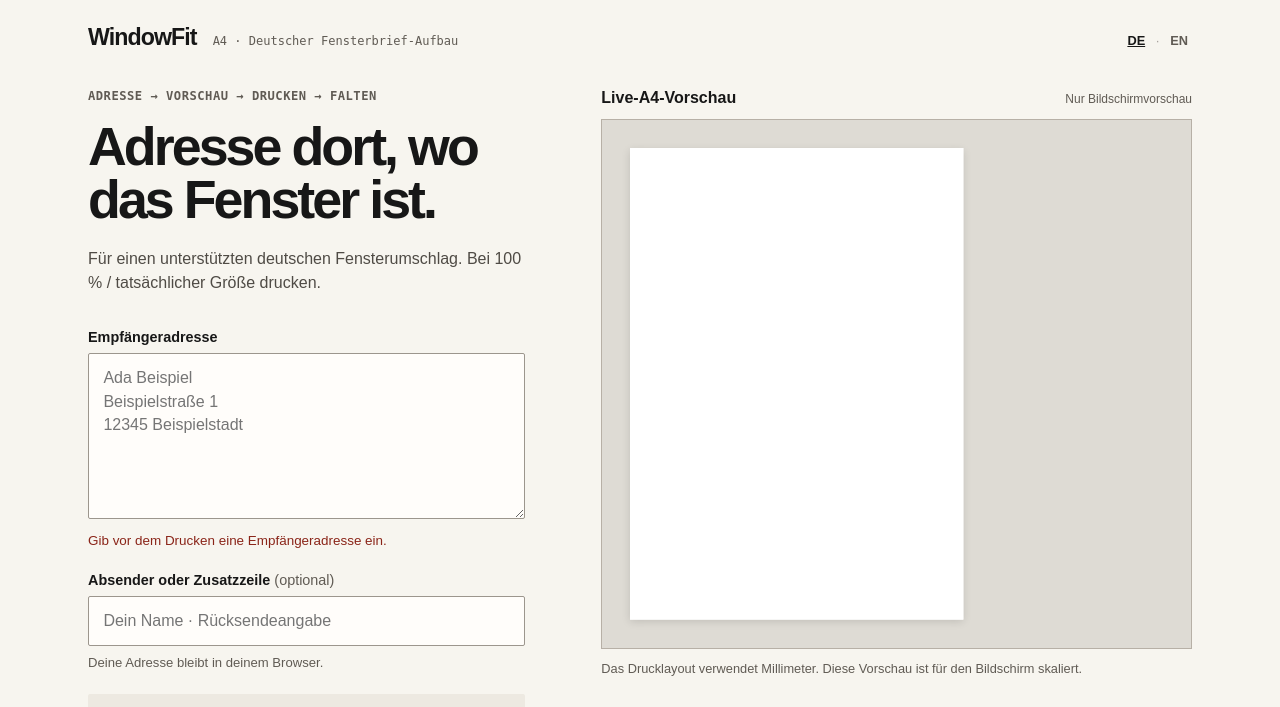
Test case: WindowFit V0.2 Sprint Goals Comprehensive Suite › 2. English switch: toggles to English without reload or network
Click the button "EN": (1179, 40) [1166, 31, 1192, 50]
(page scrolled)
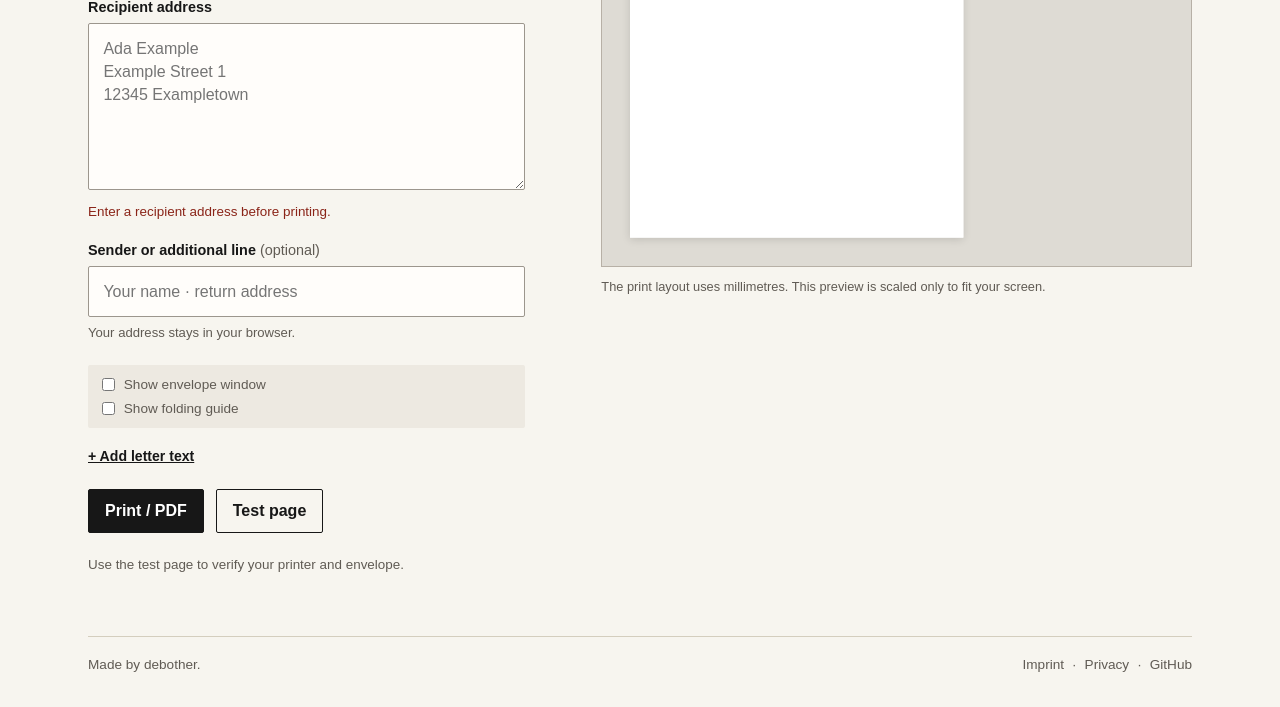
Expected: the text box labelled "Recipient address" is shown, [88, 23, 524, 190]
Now the button "Print / PDF" is shown, box [88, 489, 204, 533]
Now the button "Test page" is shown, box [216, 489, 323, 533]
